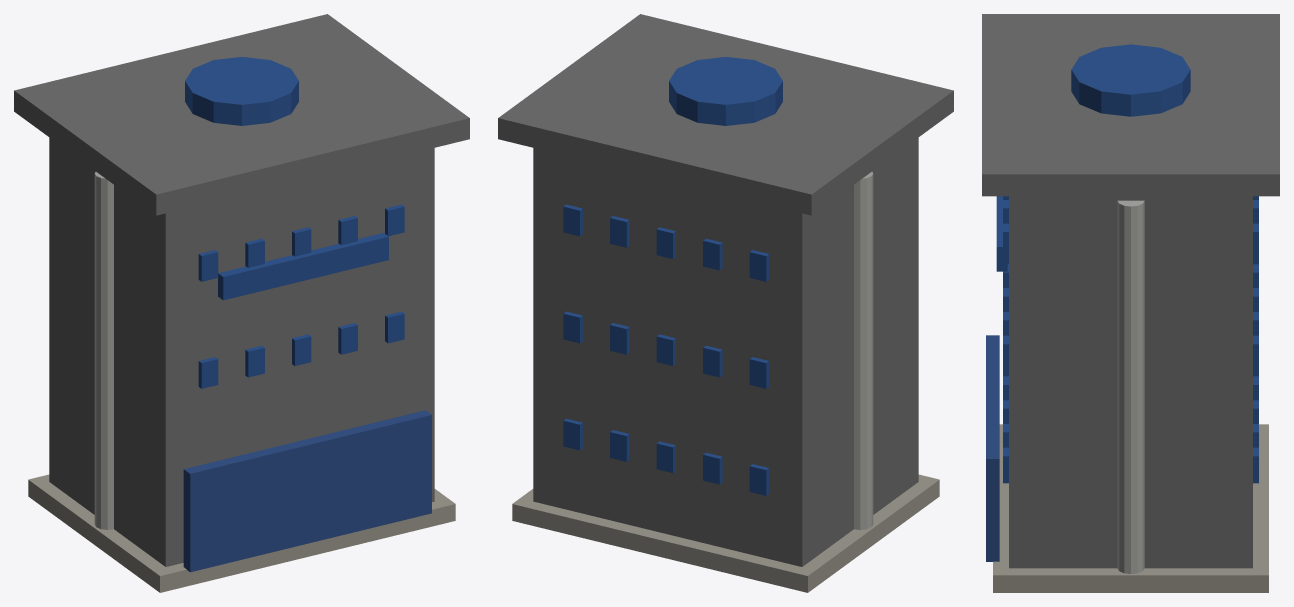
Rendered from bld_commercial_a10.glb.
3 views of the same model, side by side, from view 1: azimuth 30°, elevation 25°; view 2: azimuth 150°, elevation 25°; view 3: azimuth 270°, elevation 25° (orthographic). The views are drawn at different scales.
Visible parts, largest first — view 1: body; view 2: body; view 3: body.
Part boxes in pixels (x1,y1,x2,y2): body: [14, 14, 469, 592]; body: [498, 14, 953, 592]; body: [982, 14, 1279, 592].
Size of what is drawn, in the model's own units: 7 by 9.12 by 5.5.
